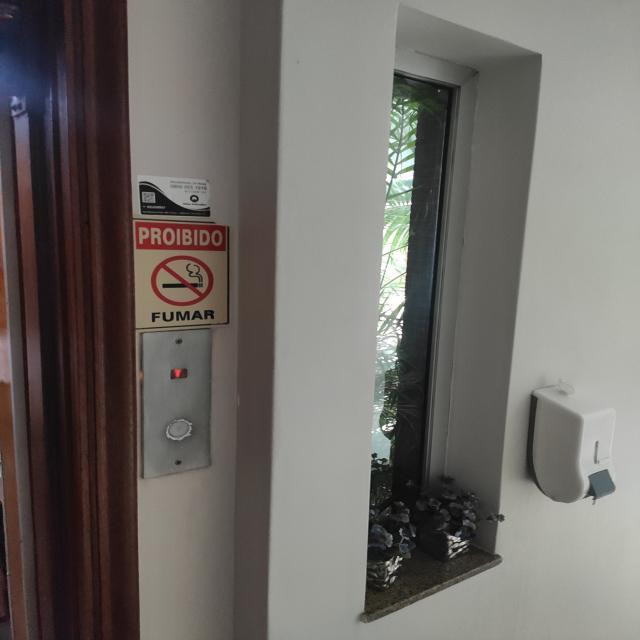qrcode: (144, 194, 155, 203)
